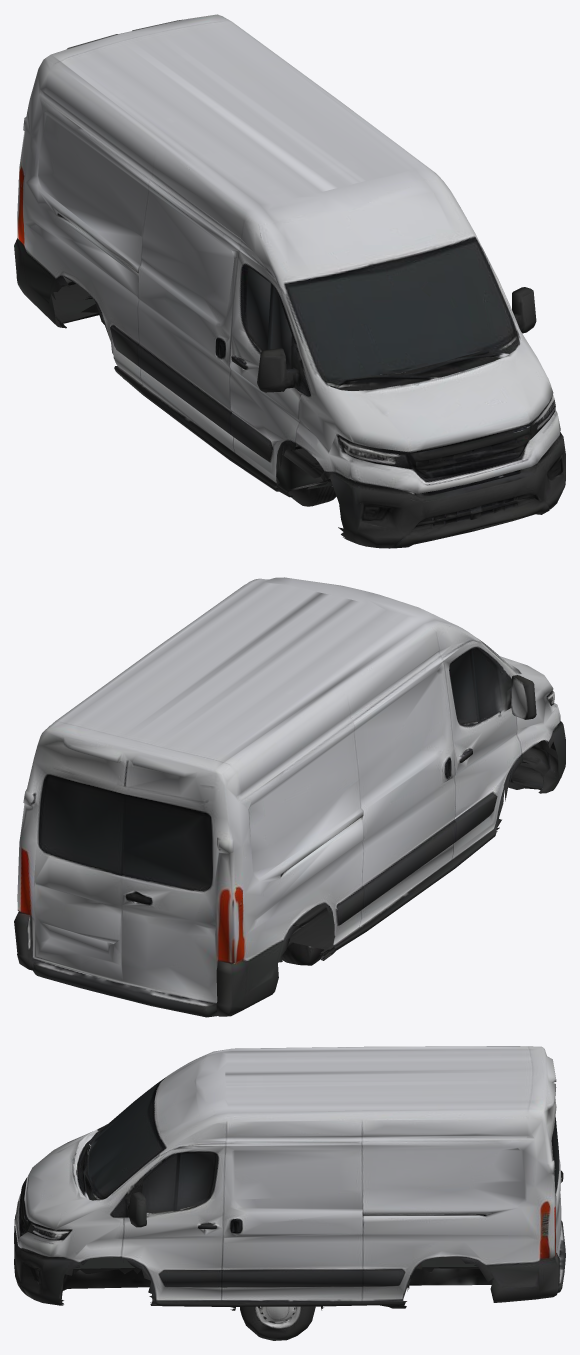
File: civ-van.glb
The picture shows the model from 3 angles, top to bottom: view 1: azimuth 30°, elevation 25°; view 2: azimuth 150°, elevation 25°; view 3: azimuth 270°, elevation 25°; orthographic projection. The views are drawn at different scales.
Parts seen in each view (by area): view 1: body, wheel; view 2: body, wheel; view 3: body, wheel.
Part boxes in pixels (x1,y1,x2,y2): body: (14, 14, 565, 548); wheel: (288, 482, 336, 506); body: (14, 577, 565, 1017); wheel: (281, 943, 323, 965); body: (14, 1046, 565, 1308); wheel: (230, 1306, 323, 1340).
Size of what is drawn, in the model's own units: 2.31 by 2.73 by 5.25.
1 material, 1 textured.
